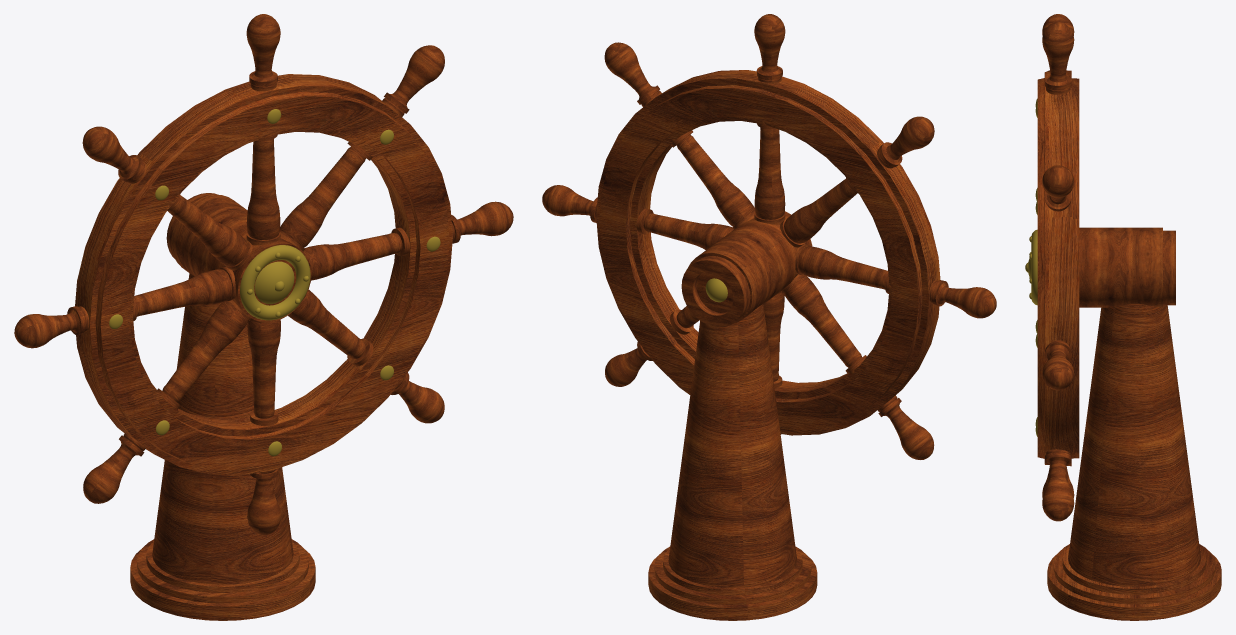
The model's file is helm.glb.
3 renders of one model, left to right at view 1: azimuth 30°, elevation 25°; view 2: azimuth 150°, elevation 25°; view 3: azimuth 270°, elevation 25°, orthographic. The views are drawn at different scales.
Visible parts, largest first — view 1: Torus, Base, Cylinder, Pre_handle.004, Pre_handle.006, Pre_handle, Pre_handle.003, Pre_handle.002, Pre_handle.001, Torus.001, Pre_handle.007, Pre_handle.005 (+9 smaller); view 2: Torus, Base, Cylinder, Central, Pre_handle.006, Pre_handle.004, Pre_handle, Pre_handle.003, Pre_handle.007, Pre_handle.001, Handle, Handle.003 (+6 smaller); view 3: Base, Torus, Cylinder, Handle, Handle.005, Handle.001, Handle.004, Central, Torus.001, Handle.007.
Boxes of the visible parts, x1,y1,x2,y2 form: Torus: (75,74,452,475); Base: (130,273,315,620); Cylinder: (171,194,311,322); Pre_handle.004: (280,142,372,251); Pre_handle.006: (157,300,251,409); Pre_handle: (246,134,280,245); Pre_handle.003: (133,267,235,321); Pre_handle.002: (247,319,280,426); Pre_handle.001: (303,227,410,280); Torus.001: (240,245,310,320); Pre_handle.007: (167,194,252,270); Pre_handle.005: (288,290,373,366); Torus: (596,70,940,435); Base: (648,304,817,620); Cylinder: (688,211,812,323); Central: (681,256,750,327); Pre_handle.006: (781,274,866,374); Pre_handle.004: (671,130,754,229); Pre_handle: (754,121,785,224); Pre_handle.003: (795,244,891,293); Pre_handle.007: (780,178,858,247); Pre_handle.001: (634,208,733,249); Handle: (754,14,785,83); Handle.003: (929,280,996,318); Base: (1047,303,1221,620); Torus: (1037,70,1079,466); Cylinder: (1079,227,1162,307); Handle: (1042,22,1074,94); Handle.005: (1042,449,1074,521); Handle.001: (1042,340,1074,390); Handle.004: (1042,165,1074,211); Central: (1163,230,1175,305); Torus.001: (1031,229,1037,305); Handle.007: (1042,14,1074,71).
Bounding box in the file's own units: 21.57 × 24.82 × 7.89.
2 materials, 1 textured.
